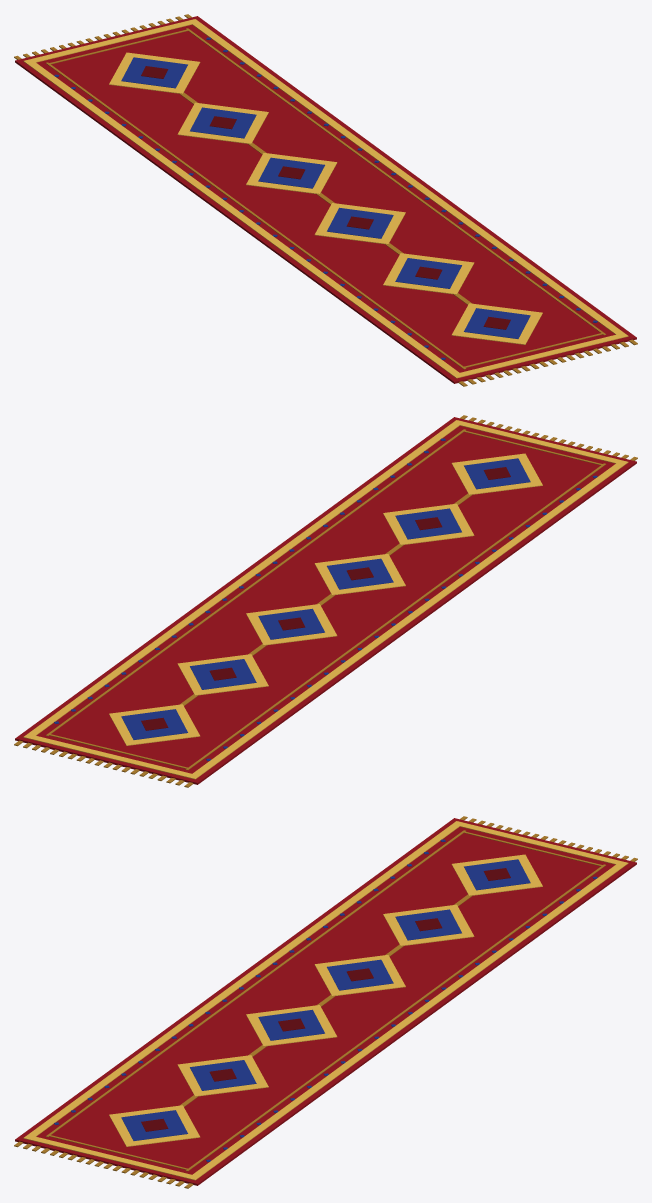
The model's file is carpet_runner.obj.
3 renders of one model, top to bottom at view 1: azimuth 30°, elevation 25°; view 2: azimuth 150°, elevation 25°; view 3: azimuth 330°, elevation 25°, orthographic.
Visible parts, largest first — view 1: box, box.001, box.029, box.002, box.030, prism, prism.009, prism.015, prism.003, prism.006, prism.012, prism.013 (+7 smaller); view 2: box, box.001, box.029, box.002, box.030, prism.006, prism.015, prism, prism.009, prism.012, prism.003, prism.004 (+7 smaller); view 3: box, box.001, box.029, box.030, box.002, prism, prism.009, prism.015, prism.003, prism.006, prism.012, prism.013 (+7 smaller).
Boxes of the visible parts, bbox=[...] form: box: bbox=[15, 16, 636, 383]; box.001: bbox=[24, 59, 463, 377]; box.029: bbox=[188, 19, 623, 337]; box.002: bbox=[46, 62, 466, 369]; box.030: bbox=[186, 28, 605, 335]; prism: bbox=[451, 303, 542, 344]; prism.009: bbox=[246, 153, 337, 193]; prism.015: bbox=[109, 52, 200, 93]; prism.003: bbox=[383, 253, 474, 294]; prism.006: bbox=[314, 203, 405, 244]; prism.012: bbox=[177, 102, 268, 143]; prism.013: bbox=[190, 107, 256, 138]; box: bbox=[15, 417, 636, 784]; box.001: bbox=[188, 460, 627, 778]; box.029: bbox=[24, 421, 461, 738]; box.002: bbox=[185, 463, 605, 770]; box.030: bbox=[46, 429, 465, 736]; prism.006: bbox=[314, 554, 405, 594]; prism.015: bbox=[109, 704, 200, 745]; prism: bbox=[451, 453, 542, 494]; prism.009: bbox=[246, 604, 337, 645]; prism.012: bbox=[177, 654, 268, 695]; prism.003: bbox=[383, 503, 474, 544]; prism.004: bbox=[395, 508, 461, 539]; box: bbox=[15, 818, 636, 1185]; box.001: bbox=[24, 821, 462, 1139]; box.029: bbox=[188, 861, 627, 1178]; box.030: bbox=[185, 864, 605, 1171]; box.002: bbox=[46, 830, 465, 1137]; prism: bbox=[109, 1105, 200, 1146]; prism.009: bbox=[314, 955, 405, 995]; prism.015: bbox=[451, 854, 542, 895]; prism.003: bbox=[177, 1055, 268, 1096]; prism.006: bbox=[246, 1005, 337, 1046]; prism.012: bbox=[383, 904, 474, 945]; prism.013: bbox=[395, 909, 461, 940].
Bounding box in the file's own units: 1.2 × 0.02 × 5.12.
